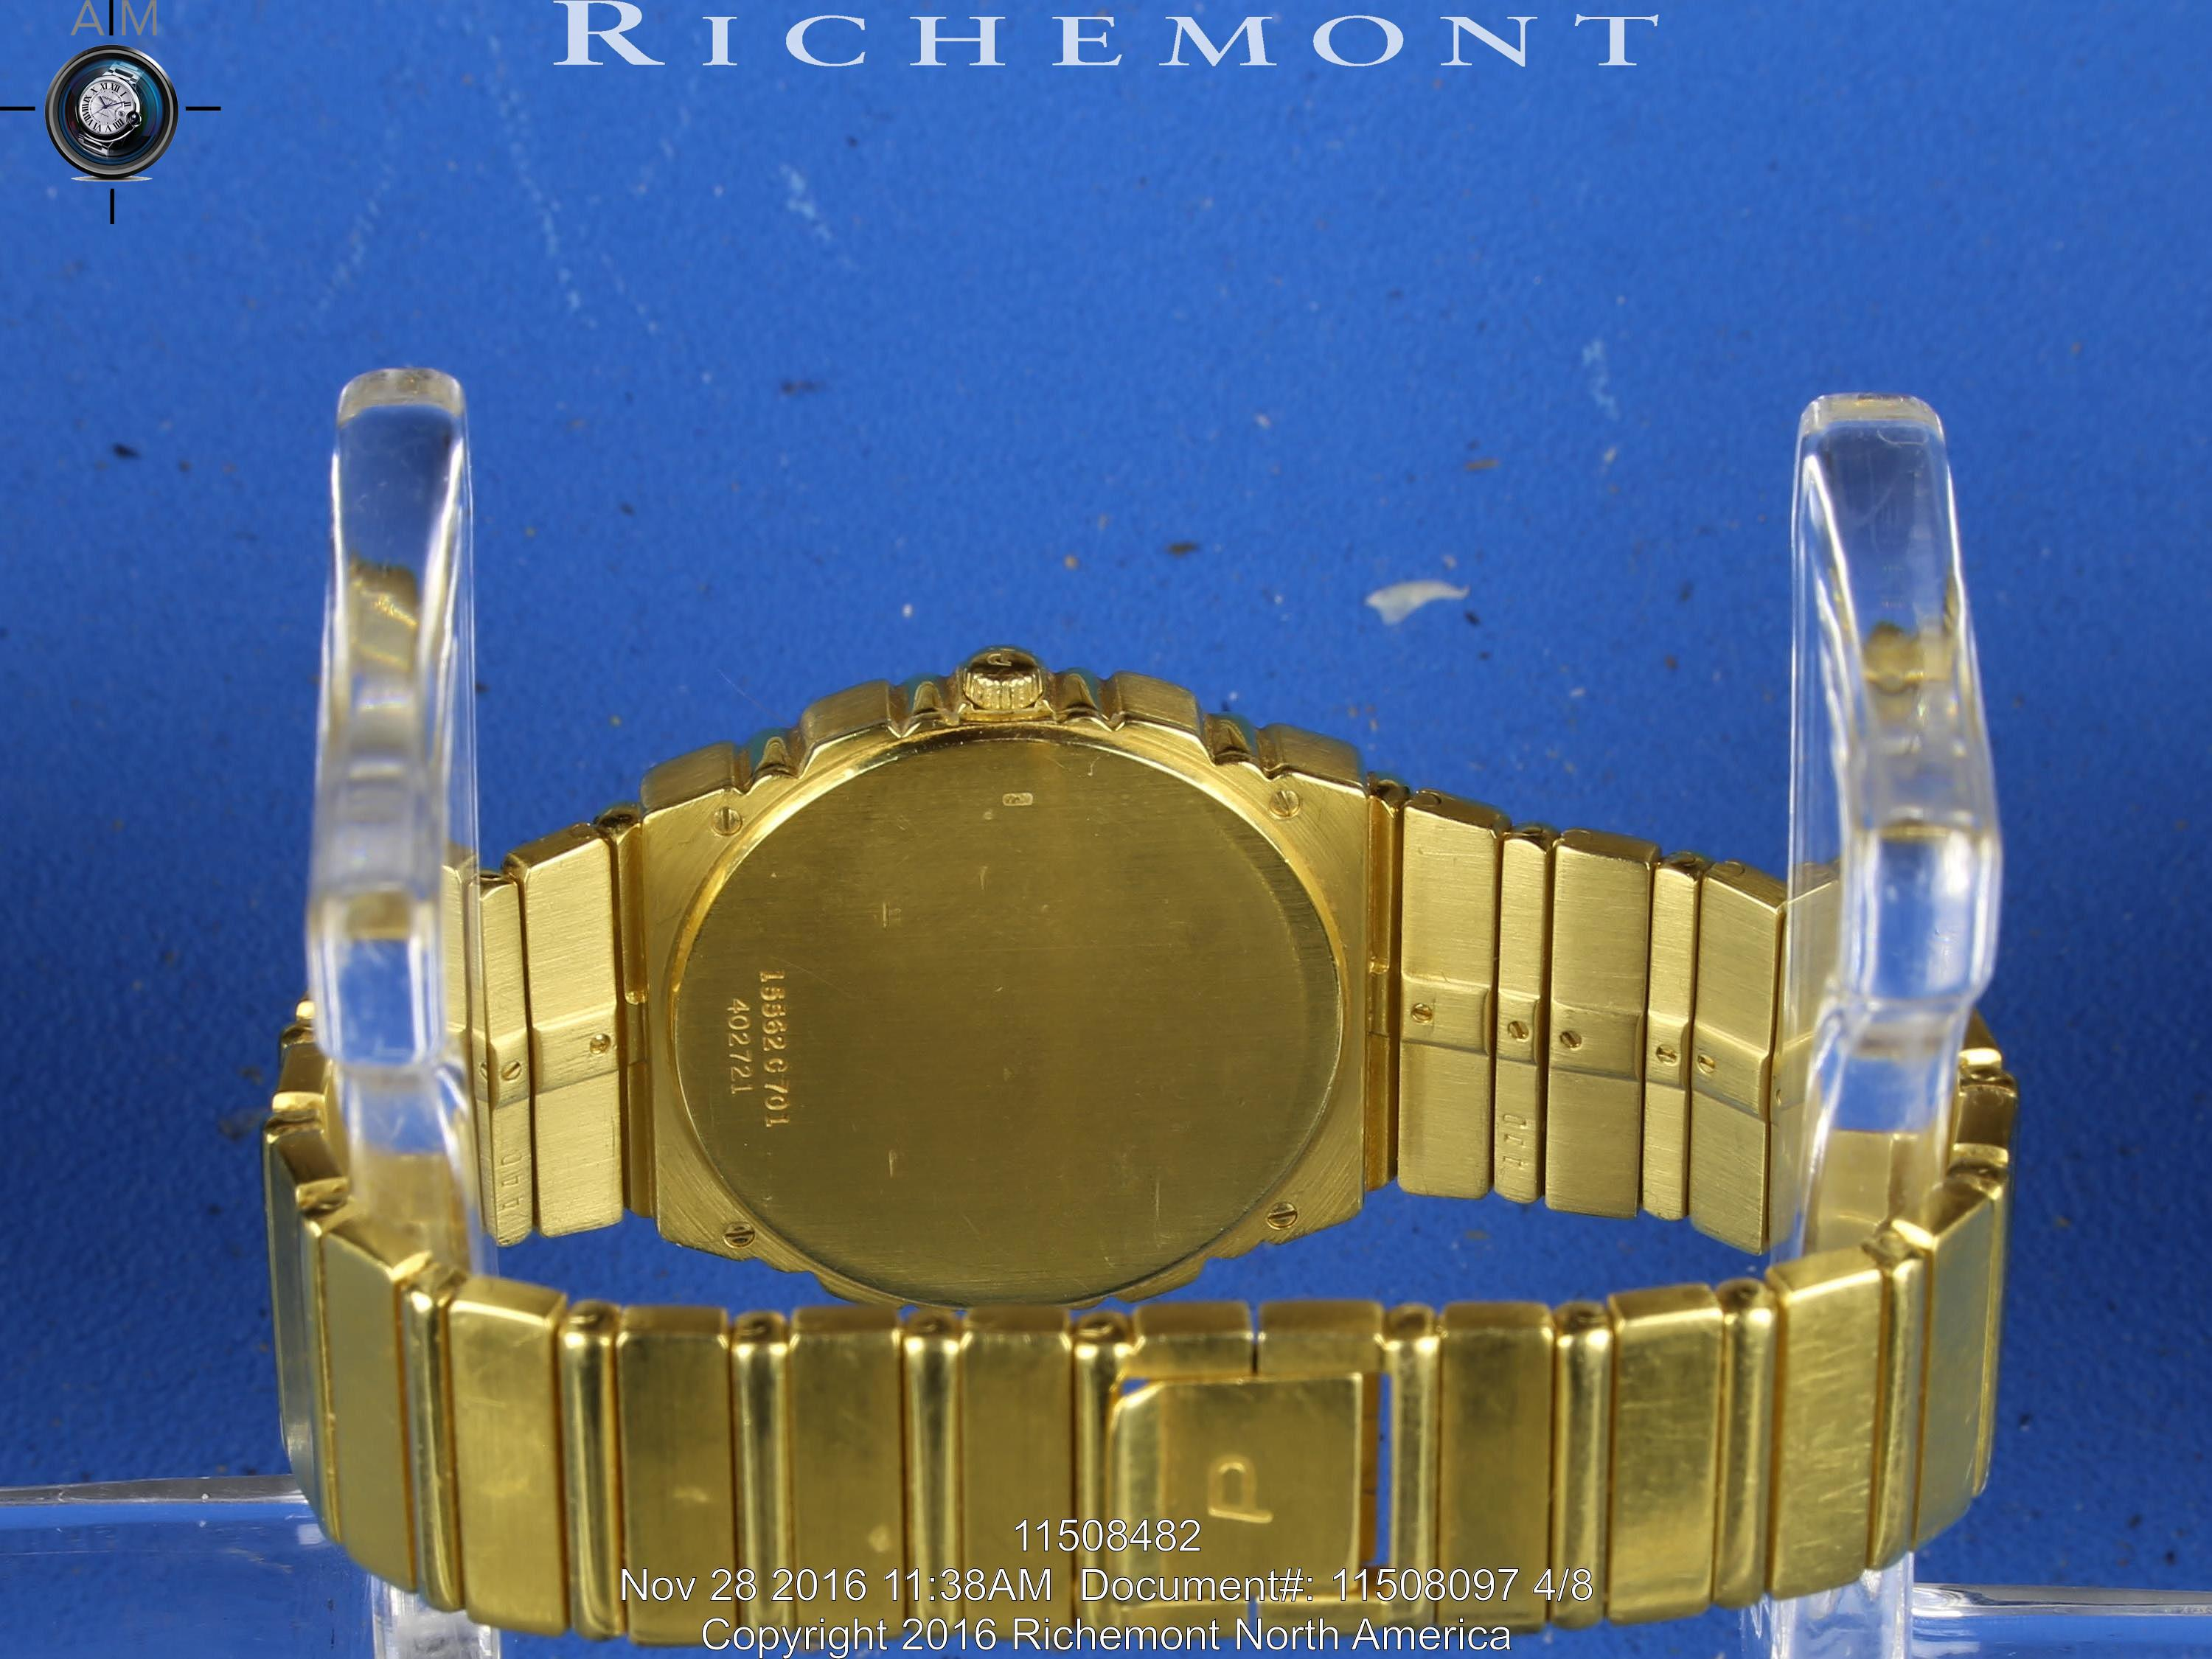Watch BackCase: (620, 636, 1388, 1309)
